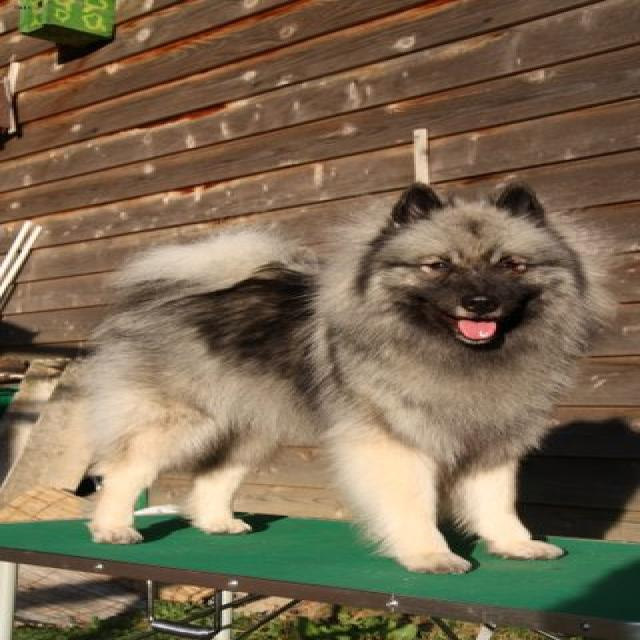dog-keeshond: (70, 172, 630, 583)
